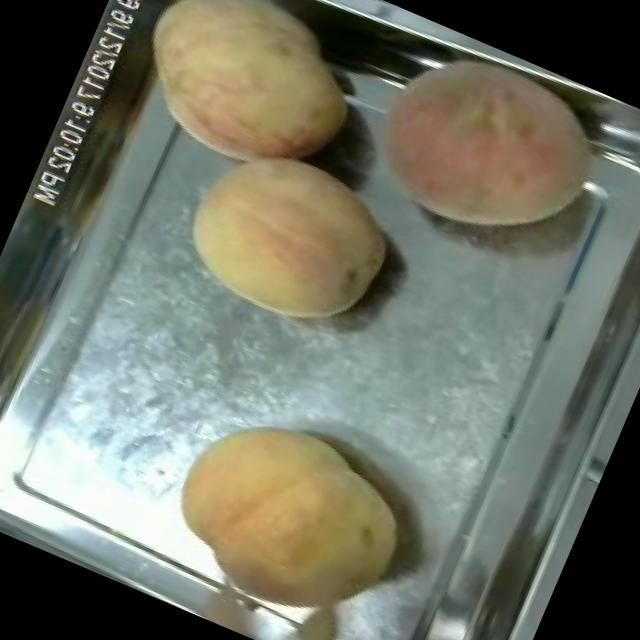Fruit: (141, 384, 434, 640), (341, 20, 629, 280), (156, 114, 421, 358), (106, 0, 387, 207)
